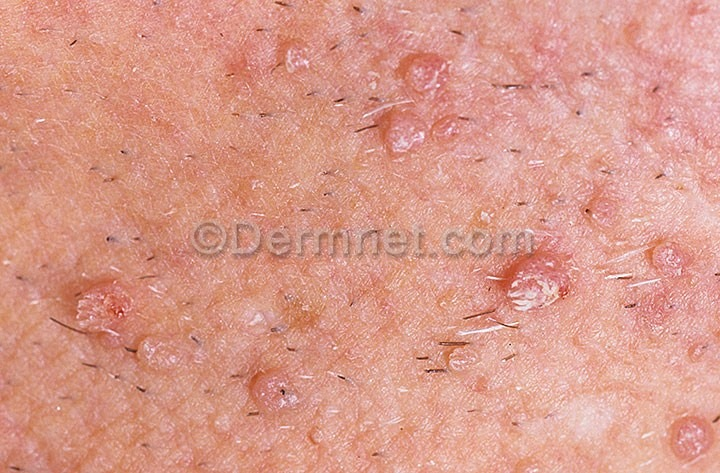Warts: (51, 261, 200, 390), (365, 31, 490, 165), (235, 347, 321, 435), (644, 386, 720, 470), (639, 227, 699, 287)
